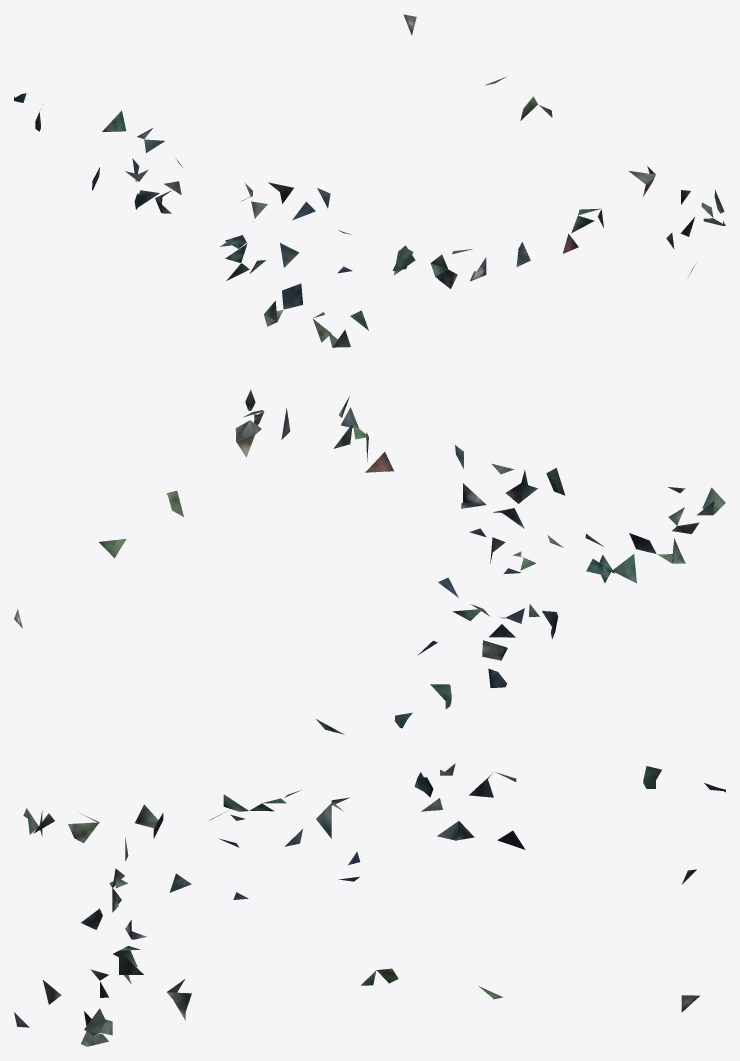
3 renders of one model, top to bottom at view 1: azimuth 30°, elevation 25°; view 2: azimuth 150°, elevation 25°; view 3: azimuth 270°, elevation 25°, orthographic. The views are drawn at different scales.
Parts seen in each view (by area): view 1: 304362727043704255_1; view 2: 304362727043704255_1; view 3: 304362727043704255_1.
Part boxes in pixels (x1,y1,x2,y2): 304362727043704255_1: (14,14,725,347); 304362727043704255_1: (14,390,725,734); 304362727043704255_1: (14,763,725,1046).
Size of the model in its own units: 109 by 16.66 by 138.
1 material, 1 textured.
